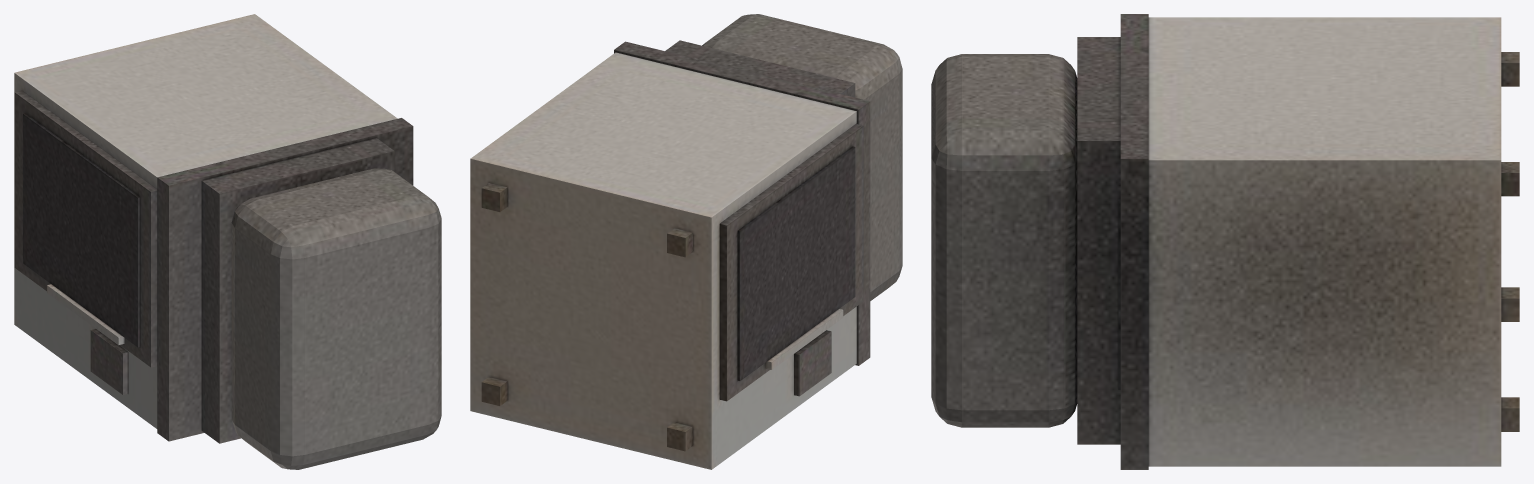
File: E4_printer_final.obj
The picture shows the model from 3 angles, left to right: view 1: azimuth 30°, elevation 25°; view 2: azimuth 150°, elevation 25°; view 3: azimuth 270°, elevation 25°; orthographic projection. The views are drawn at different scales.
Visible parts, largest first — view 1: E4_printer_final.001; view 2: E4_printer_final.001; view 3: E4_printer_final.001.
Part boxes in pixels (x1,y1,x2,y2): E4_printer_final.001: [14, 14, 441, 469]; E4_printer_final.001: [470, 14, 902, 469]; E4_printer_final.001: [931, 14, 1519, 469].
Size of the model in its own units: 0.414 by 0.3965 by 0.677.
Materials: 1 (1 with a texture image).
